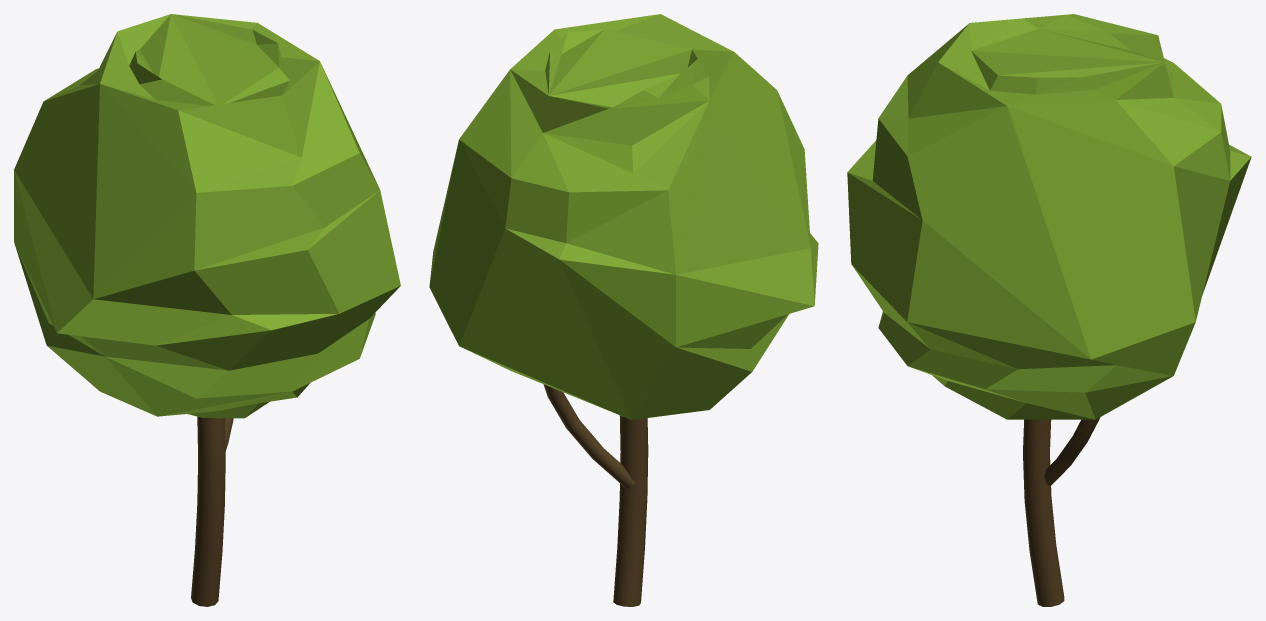
The model's file is tree02.FBX.
3 renders of one model, left to right at view 1: azimuth 30°, elevation 25°; view 2: azimuth 150°, elevation 25°; view 3: azimuth 270°, elevation 25°, orthographic.
Parts seen in each view (by area): view 1: tree02; view 2: tree02; view 3: tree02.
Part boxes in pixels (x1,y1,x2,y2): tree02: (14,14,400,606); tree02: (429,14,818,606); tree02: (847,14,1251,606).
Bounding box in the file's own units: 194 × 298 × 196.
